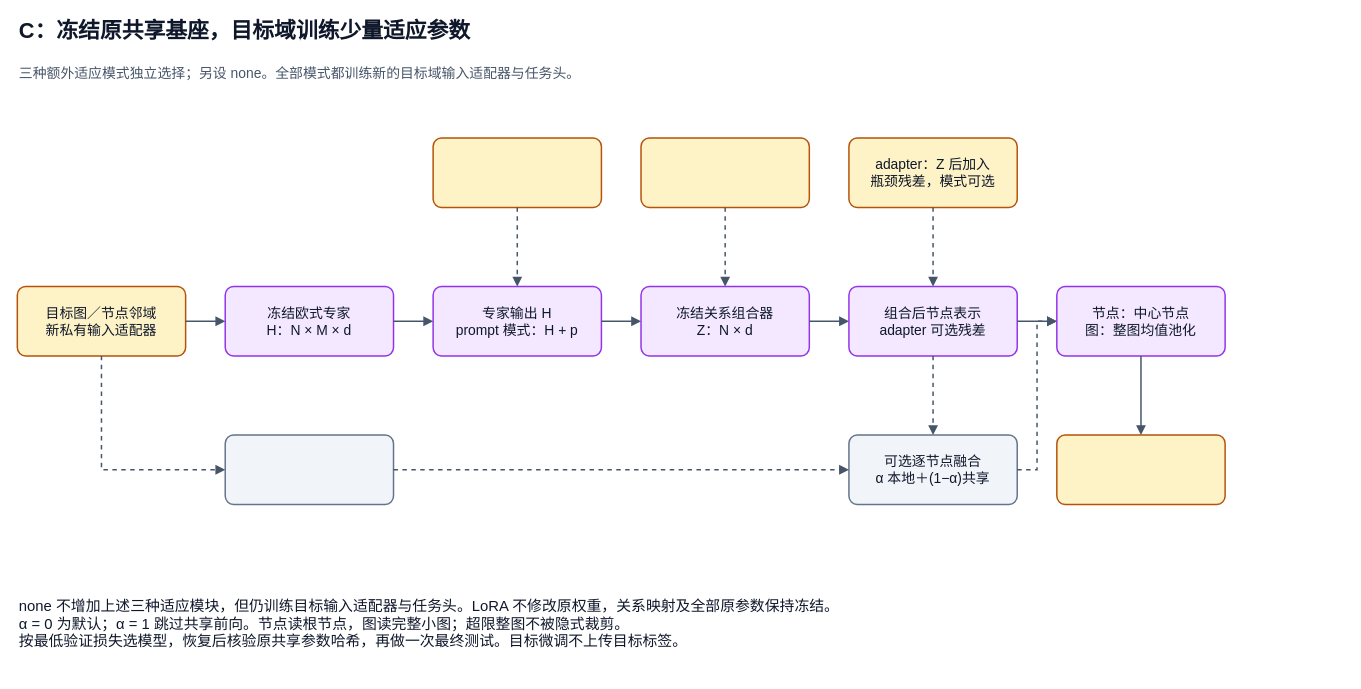
Image size: 1361x689. Some labels were removed from this diagram. Each missing label, with the centre of its shape:
"lora：仅 Q／K 添加可训练低秩增量" belongs at point 725,172.
"prompt：共享向量 p 零初始化，模式可选" belongs at point 517,172.
"可选新本地编码器 从头初始化并训练" belongs at point 309,469.
"新任务头 训练／验证／测试" belongs at point 1140,469.
